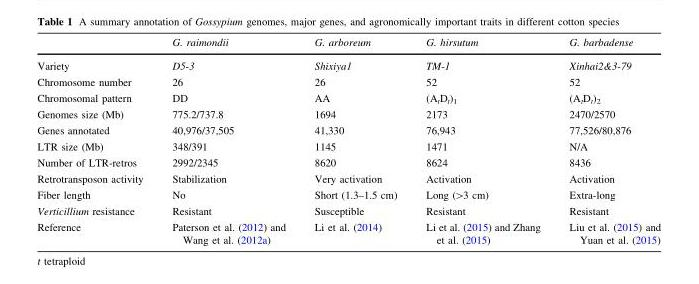table: (36, 37, 660, 244)
table column: (410, 37, 554, 244), (157, 37, 299, 244), (36, 37, 157, 244), (299, 37, 410, 244), (554, 37, 660, 244)
table column header: (36, 37, 660, 54)
table row: (36, 219, 660, 244), (36, 54, 660, 74), (36, 37, 660, 54), (36, 186, 660, 203), (36, 74, 660, 90), (36, 90, 660, 106), (36, 106, 660, 122), (36, 122, 660, 138), (36, 138, 660, 154), (36, 154, 660, 170), (36, 170, 660, 186), (36, 203, 660, 219)
